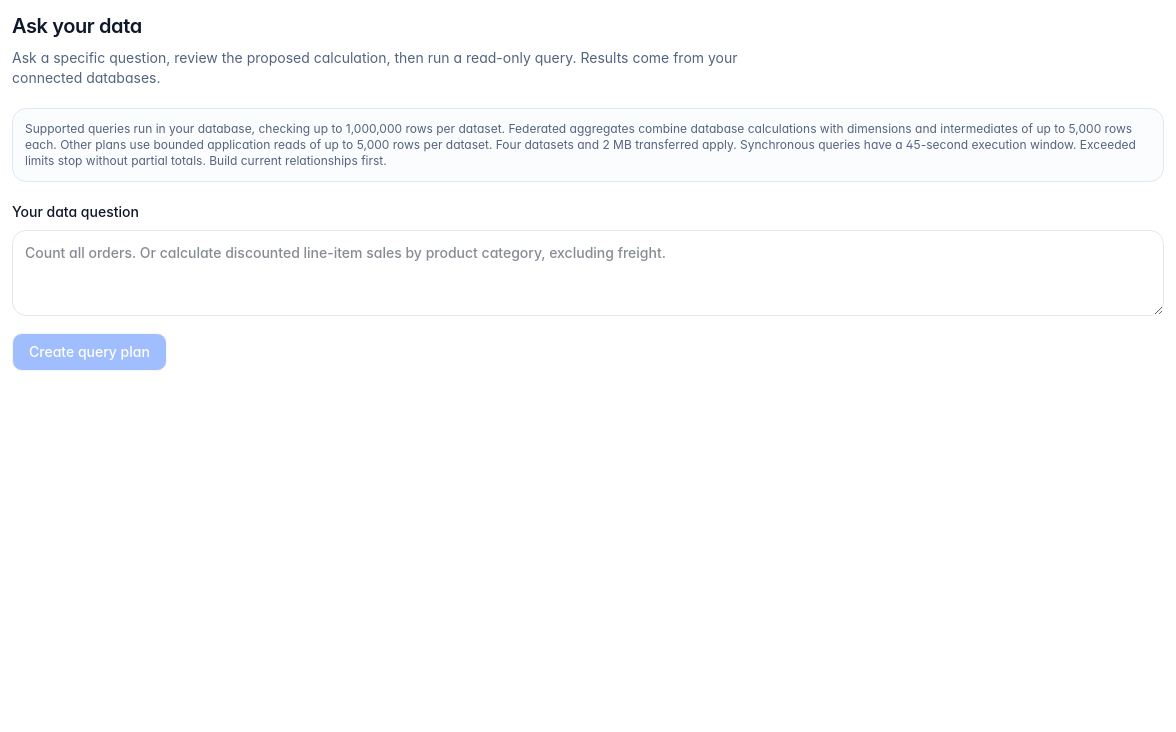
Test case: shows execution failure without stale results
The image size is (1176, 732).
Replace the text in the text box labelled "Your data question" with "Count" at (588, 273), box [12, 230, 1164, 316]
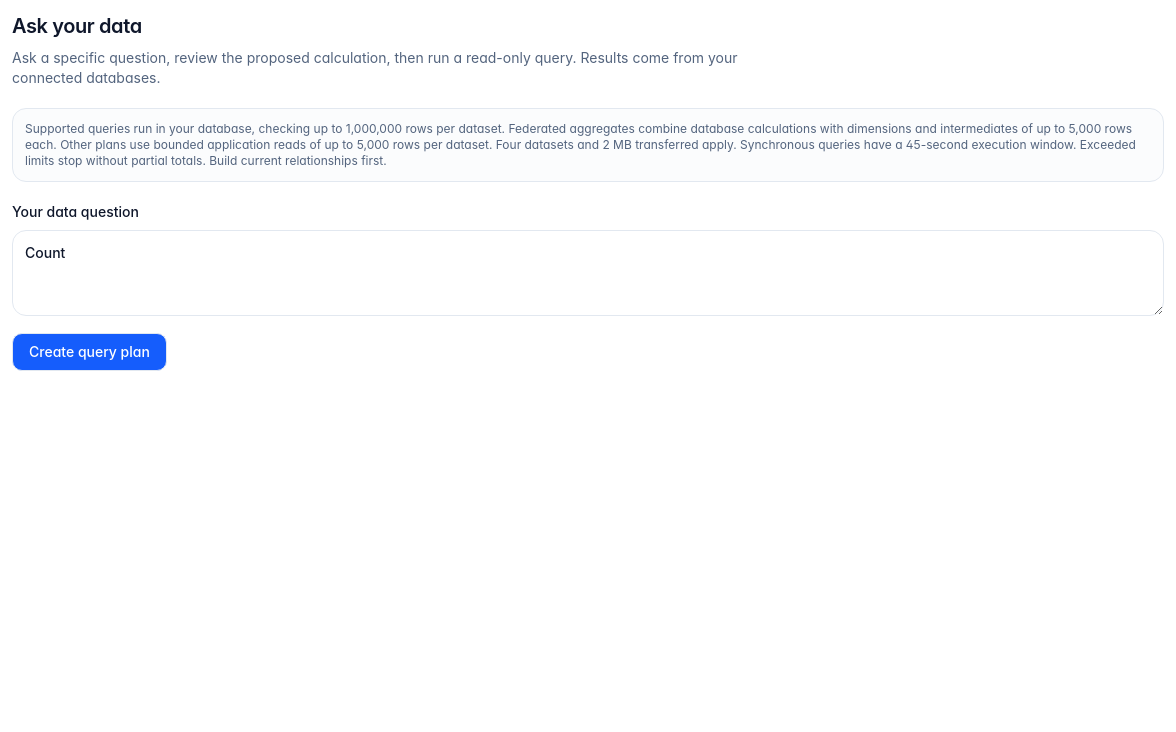
Now the button "Create query plan" is enabled
Click the button "Create query plan".
click(89, 352)  # box [12, 333, 167, 371]
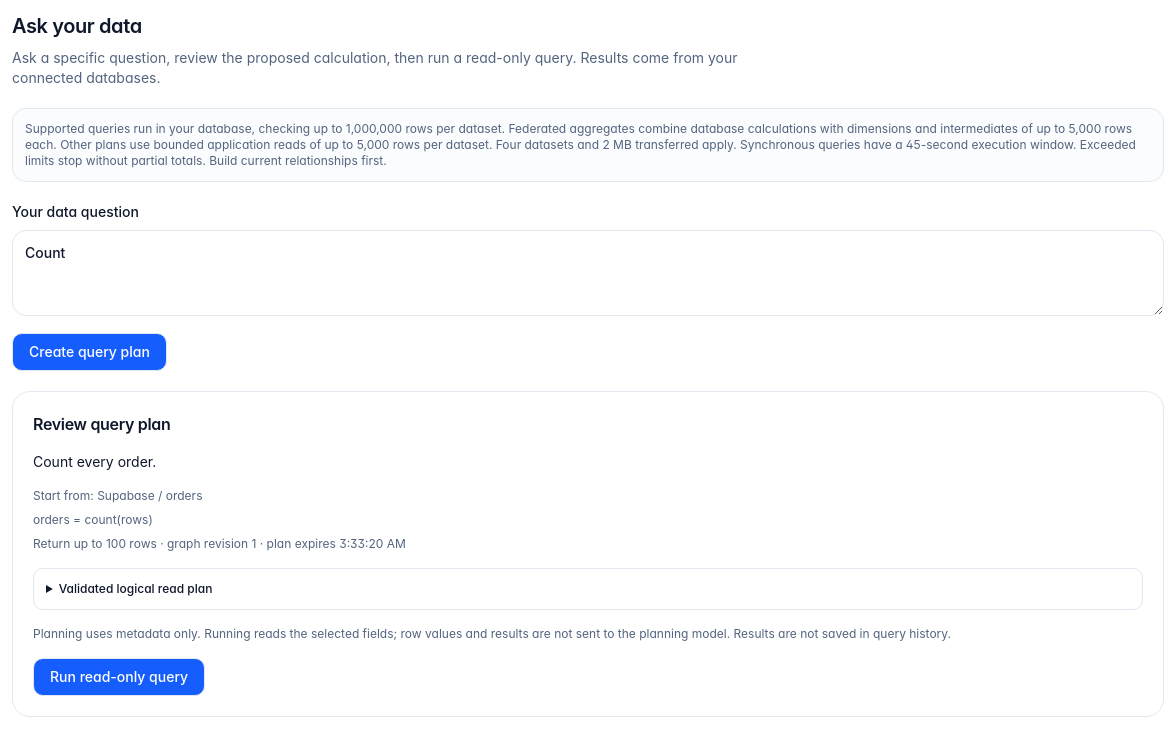
Click the button "Run read-only query".
click(119, 677)  # box [33, 658, 205, 696]
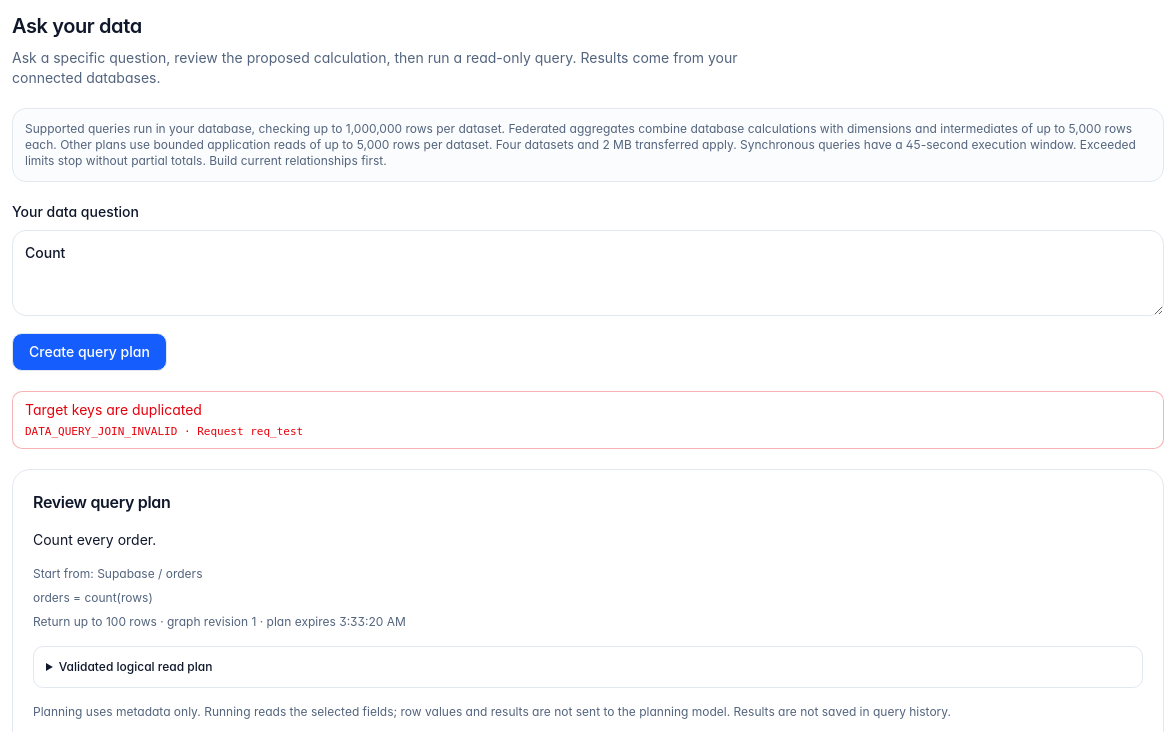
Now the text "Target keys are duplicated" is shown, box [25, 401, 202, 418]
